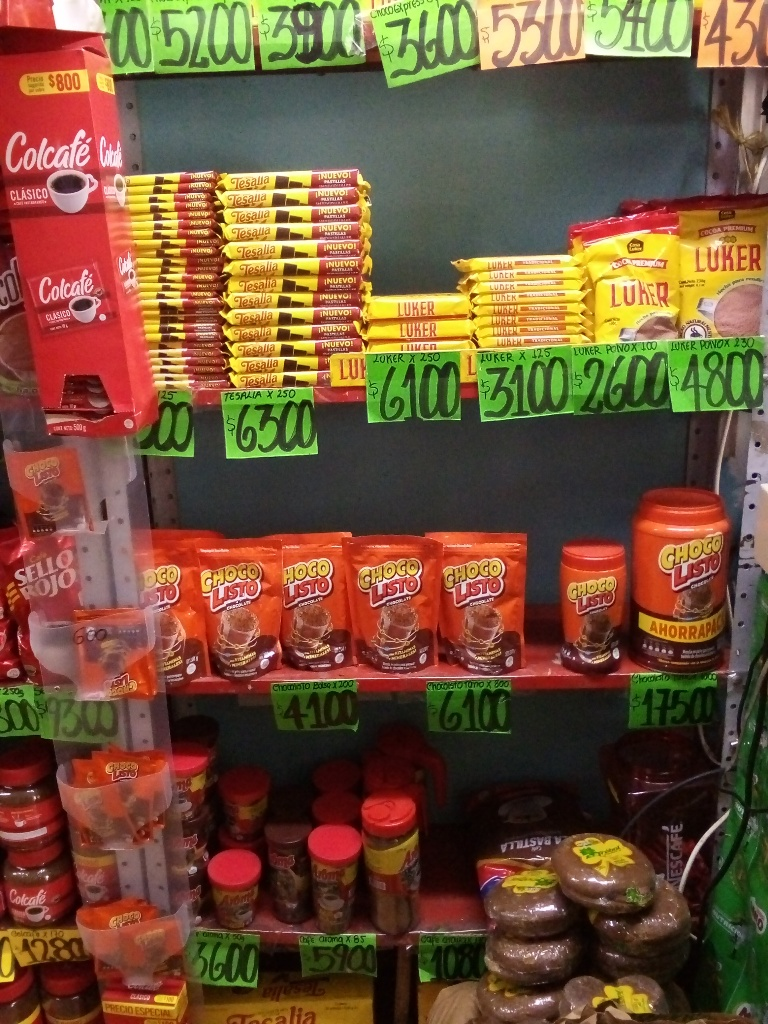COL0170103SOB02000: (0, 443, 107, 541)
COL0170103TRR00100: (630, 474, 730, 669)
